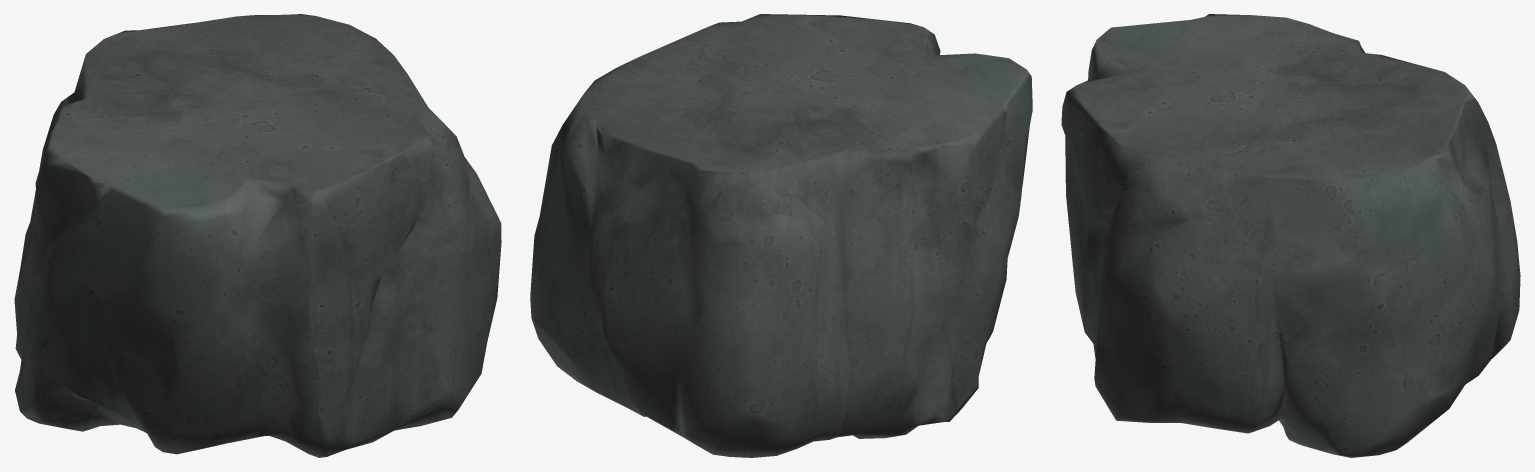
Rendered from Cliff_Cap03.fbx.
The picture shows the model from 3 angles, left to right: view 1: azimuth 30°, elevation 25°; view 2: azimuth 150°, elevation 25°; view 3: azimuth 270°, elevation 25°; orthographic projection. The views are drawn at different scales.
Visible parts, largest first — view 1: SM_Cliff_Cap_03.mo; view 2: SM_Cliff_Cap_03.mo; view 3: SM_Cliff_Cap_03.mo.
Part boxes in pixels (bbox=[...]): SM_Cliff_Cap_03.mo: bbox=[14, 14, 501, 457]; SM_Cliff_Cap_03.mo: bbox=[530, 14, 1032, 457]; SM_Cliff_Cap_03.mo: bbox=[1061, 14, 1520, 457].
Size of the model in its own units: 952 by 644 by 954.
